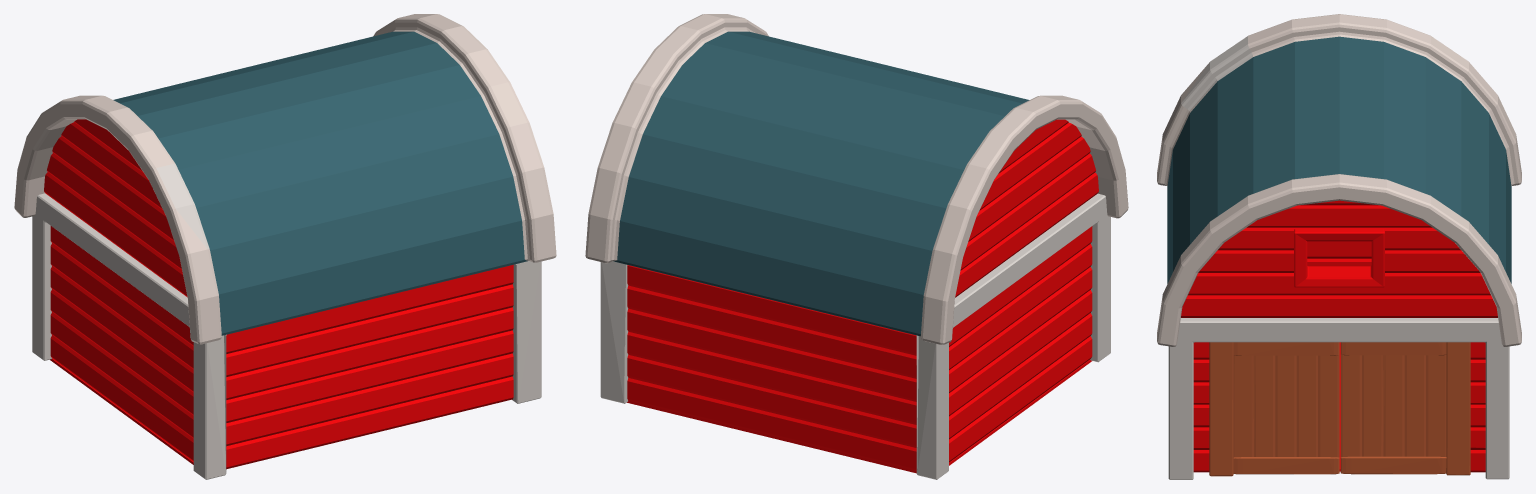
The model's file is angar3.fbx.
The picture shows the model from 3 angles, left to right: view 1: azimuth 30°, elevation 25°; view 2: azimuth 150°, elevation 25°; view 3: azimuth 270°, elevation 25°; orthographic projection. The views are drawn at different scales.
Parts seen in each view (by area): view 1: Angar; view 2: Angar; view 3: Angar, Door, Door2.
Boxes of the visible parts, left/top/right/bottom form: Angar: left=14, top=14, right=556, bottom=479; Angar: left=585, top=14, right=1128, bottom=479; Angar: left=1157, top=14, right=1521, bottom=479; Door: left=1209, top=342, right=1339, bottom=476; Door2: left=1340, top=342, right=1470, bottom=475.
Bounding box in the file's own units: 816 × 670 × 733.
